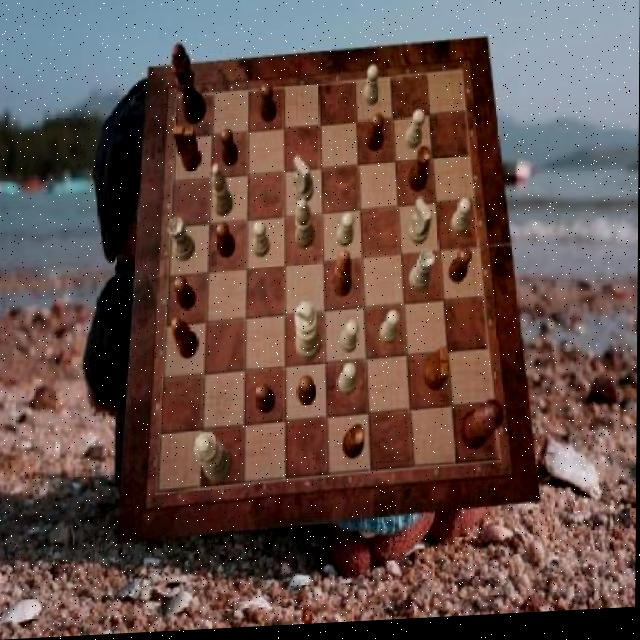bishop: (172, 320, 199, 362), (331, 255, 351, 302)
black-bishop: (171, 45, 207, 128)
black-king: (173, 127, 202, 174), (424, 352, 449, 396)
black-knight: (448, 253, 472, 288), (174, 277, 197, 312), (215, 224, 236, 261), (366, 117, 384, 155), (259, 86, 276, 126), (220, 130, 237, 169), (255, 386, 275, 416), (297, 378, 316, 408)
black-pawn: (459, 406, 504, 455)
black-queen: (408, 150, 432, 197), (342, 427, 365, 462)
black-rook: (210, 166, 233, 221), (294, 201, 314, 252)
white-bishop: (295, 305, 323, 366)
white-king: (408, 201, 433, 250), (293, 159, 313, 208)
white-knight: (405, 113, 425, 153), (451, 202, 471, 241), (380, 314, 401, 349), (363, 68, 380, 110), (253, 224, 271, 261), (340, 325, 360, 358), (335, 215, 353, 250), (339, 367, 358, 400)
white-pawn: (195, 432, 233, 486)
white-queen: (168, 219, 196, 265), (409, 253, 435, 297)
